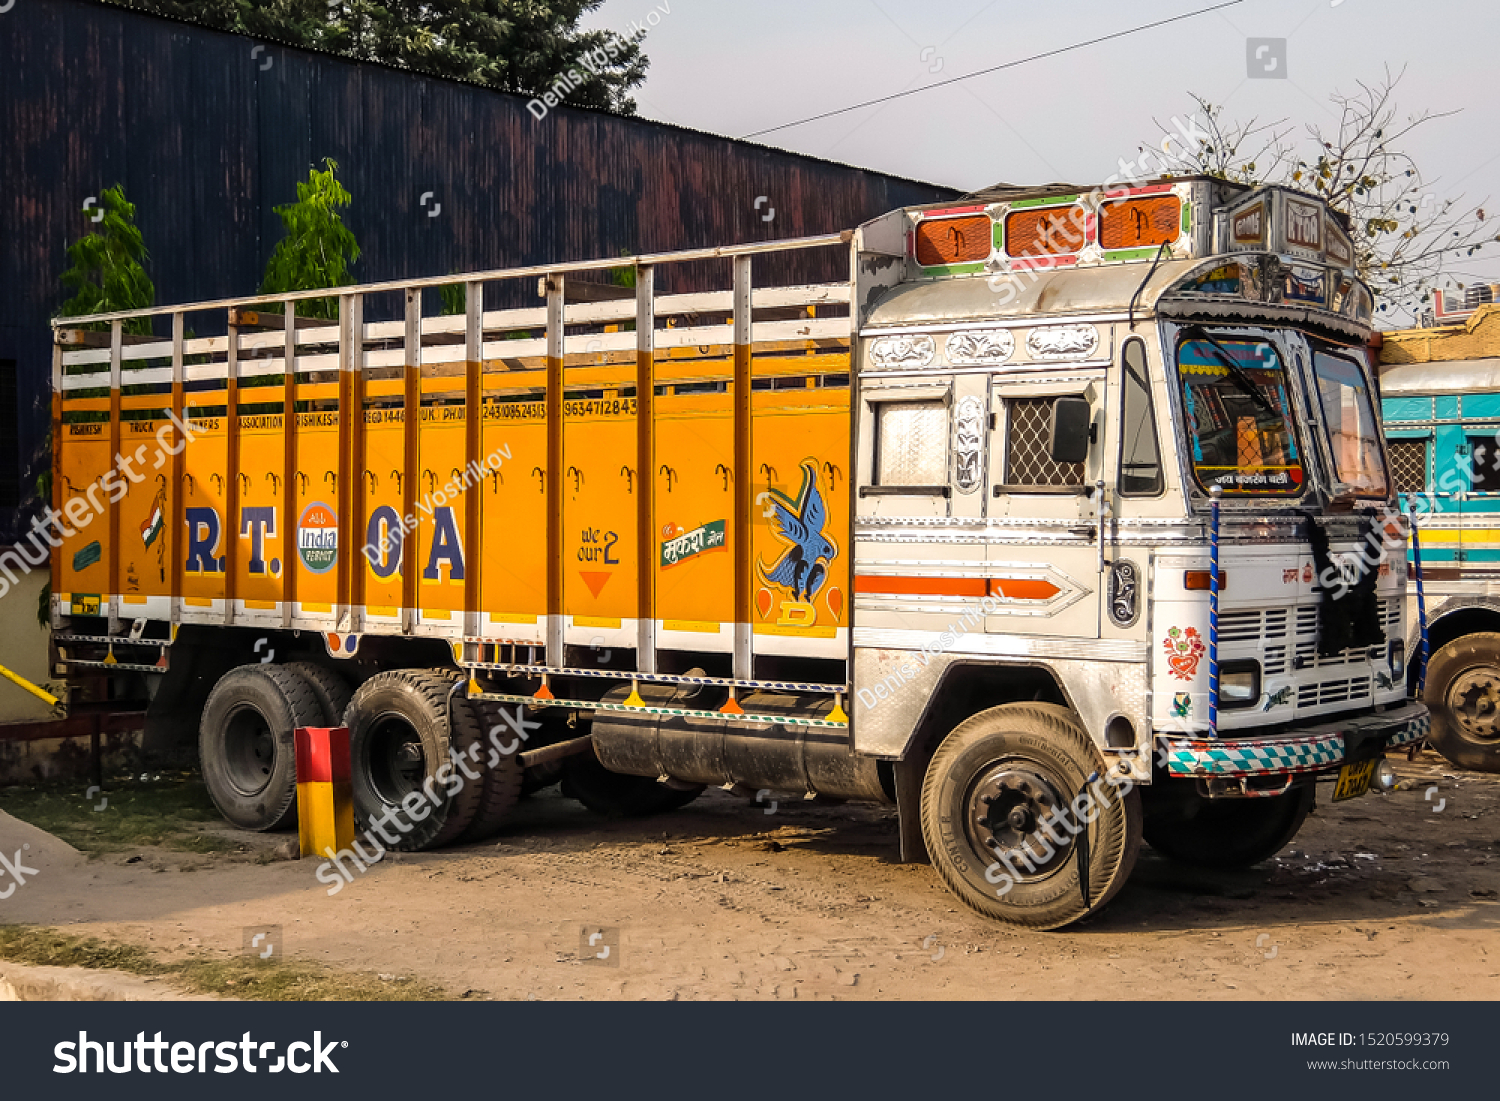wheel: (910, 689, 1124, 943), (344, 664, 512, 851), (193, 657, 342, 837)
